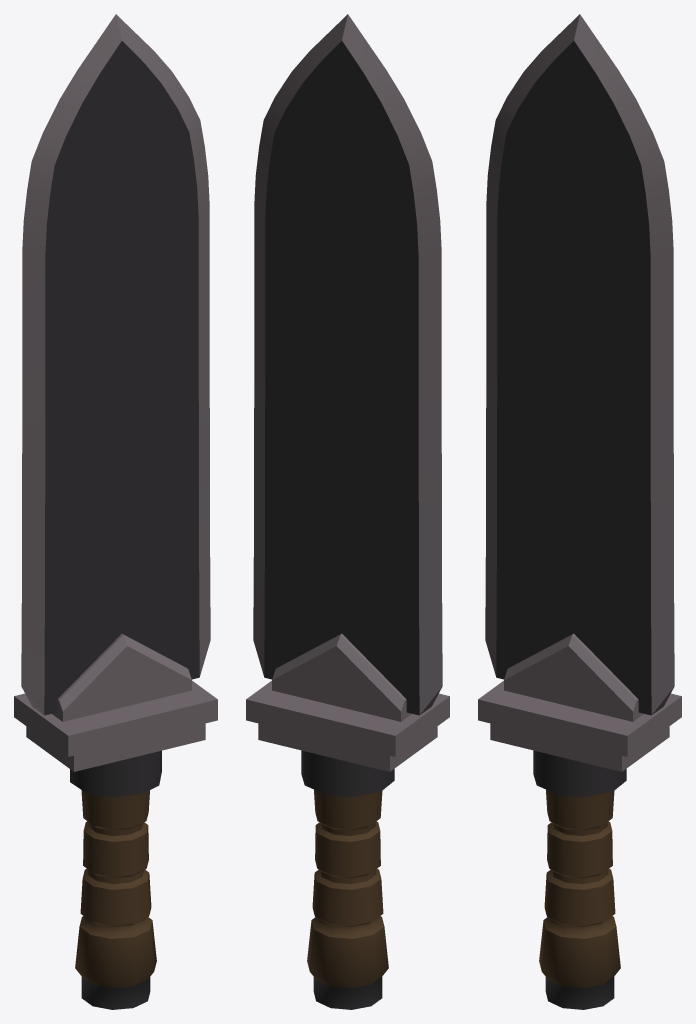
Rendered from sword.glb.
3 renders of one model, left to right at view 1: azimuth 30°, elevation 25°; view 2: azimuth 150°, elevation 25°; view 3: azimuth 330°, elevation 25°, orthographic.
Parts seen in each view (by area): view 1: Weapon_Sword_1; view 2: Weapon_Sword_1; view 3: Weapon_Sword_1.
Boxes of the visible parts, x1,y1,x2,y2 form: Weapon_Sword_1: (14,14,217,1009); Weapon_Sword_1: (246,14,449,1009); Weapon_Sword_1: (478,14,681,1009).
Size of the model in its own units: 0.2752 by 1.37 by 0.1367.
